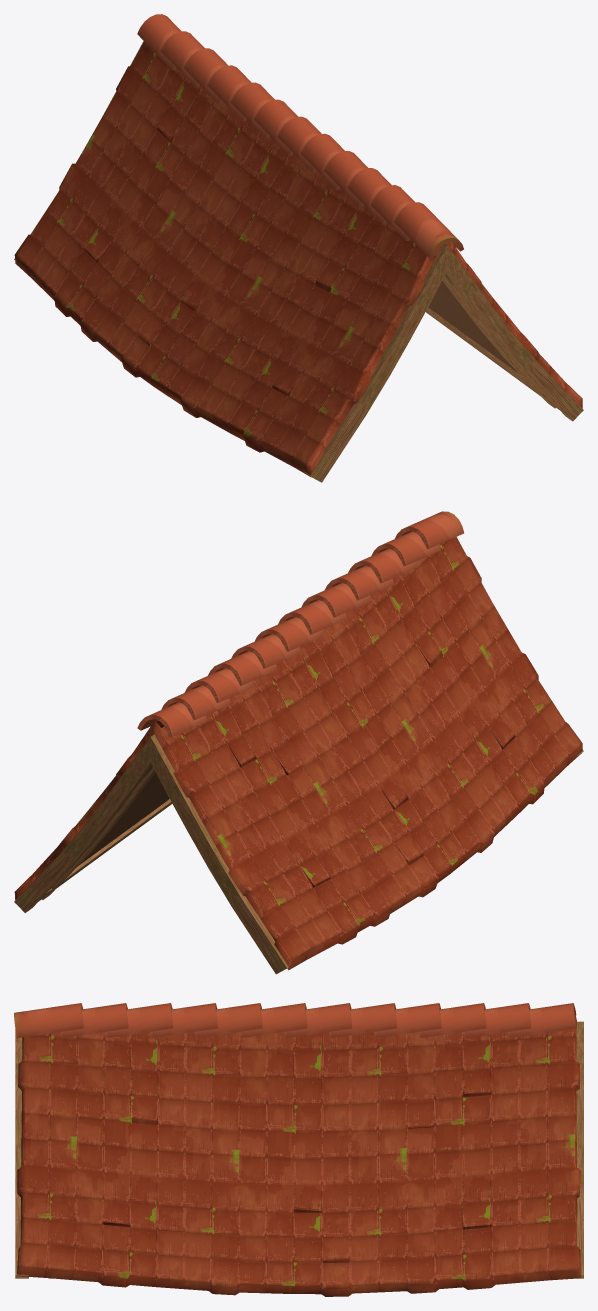
File: Roof_FlatTiles_4x8.gltf
The picture shows the model from 3 angles, top to bottom: view 1: azimuth 30°, elevation 25°; view 2: azimuth 150°, elevation 25°; view 3: azimuth 270°, elevation 25°; orthographic projection. The views are drawn at different scales.
Parts seen in each view (by area): view 1: Roof_FlatTiles_4x8; view 2: Roof_FlatTiles_4x8; view 3: Roof_FlatTiles_4x8.
Part boxes in pixels (left/top/right/bottom): Roof_FlatTiles_4x8: left=14, top=14, right=583, bottom=482; Roof_FlatTiles_4x8: left=14, top=511, right=583, bottom=974; Roof_FlatTiles_4x8: left=14, top=1003, right=583, bottom=1296.
Size of the model in its own units: 5.75 by 4.17 by 9.68.
3 materials, 3 textured.
